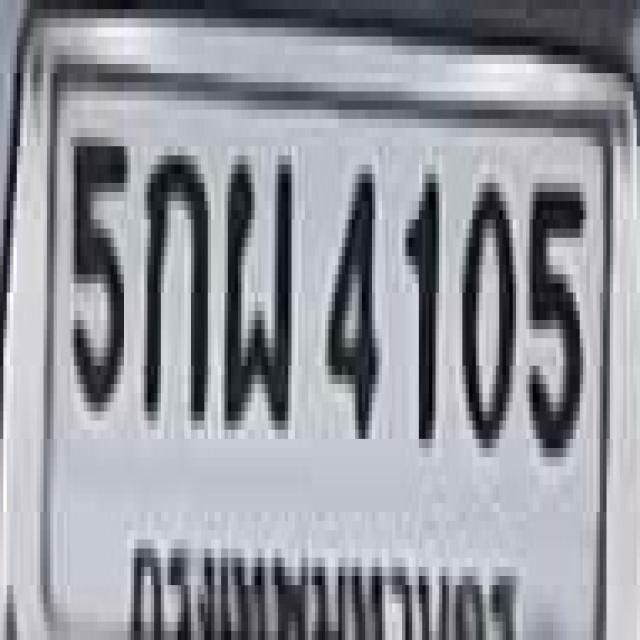-: (221, 146, 292, 421), (141, 146, 204, 412)
0: (459, 174, 513, 439)
1: (402, 160, 436, 434)
4: (325, 155, 375, 430)
5: (526, 169, 583, 444), (70, 128, 124, 402)
